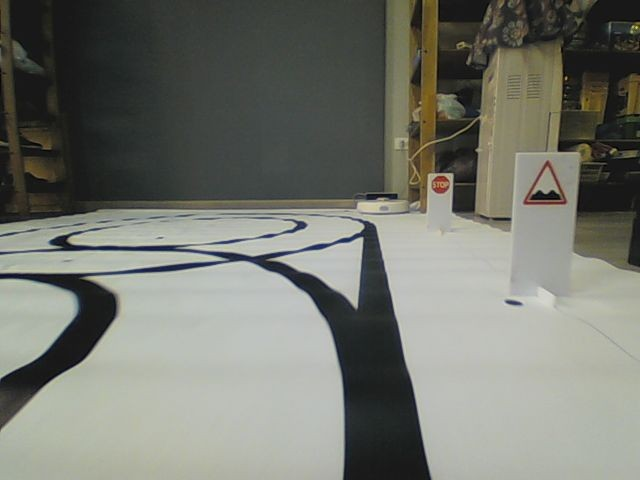Nerov: (521, 159, 569, 205)
Stop: (431, 175, 450, 194)
